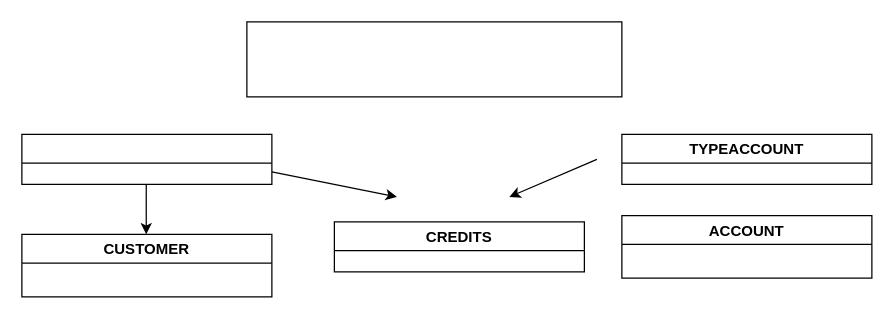
This 894x319 diagram has some shape labels left out. Here are the shapes that lost their labels. From the top down, the centre of each, then its label:
[434,59]: CONFIG SERVER
[146,158]: TYPECUSTOMER
